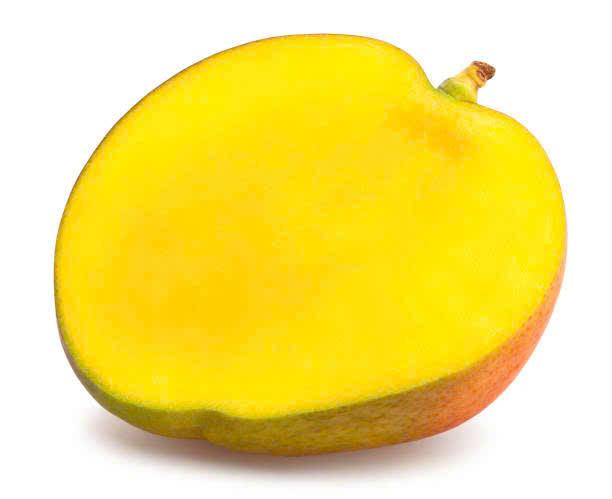mango: (76, 6, 576, 452)
